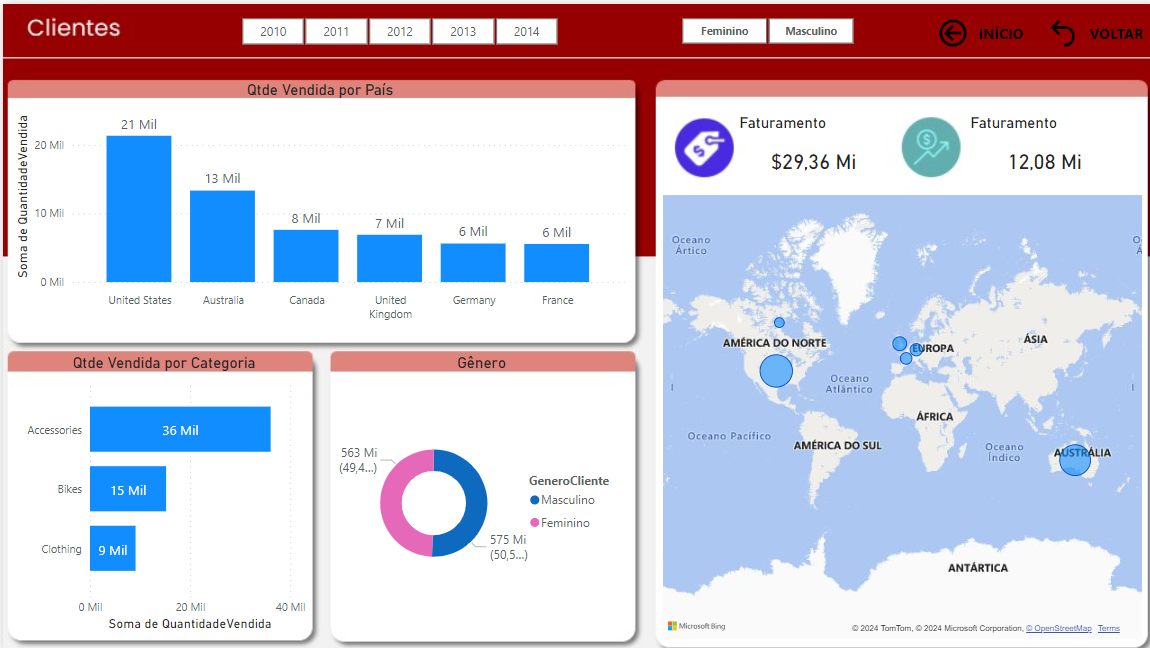

Layout of this report page (visuals, bound fields, positions):
{"tool":"powerbi","page":{"name":"Clientes","canvas":[1280,720],"ordinal":2},"visuals":[{"type":"actionButton","box":[1035.6,12.2,102.2,40],"z":0},{"type":"actionButton","box":[1157.8,12.2,113.3,40],"z":1000},{"type":"slicer","fields":{"Values":["vw_AnaliseVendas - vw_AnaliseVendas.DataPedido.Variation.Hierarquia de datas.Ano"]},"box":[240,8.9,400,43.3],"z":2000},{"type":"slicer","fields":{"Values":["vw_AnaliseVendas - vw_AnaliseVendas.GeneroCliente"]},"box":[728.9,8.9,240,42.2],"z":3000},{"type":"card","title":"Faturamento","fields":{"Values":["Sum(vw_AnaliseVendas - vw_AnaliseVendas.ValorVenda)"]},"box":[813.3,122.2,174.4,85.6],"z":4000},{"type":"card","title":"Faturamento","fields":{"Values":["Sum(vw_AnaliseVendas - vw_AnaliseVendas.LucroVenda)"]},"box":[1070,122.2,174.4,85.6],"z":5000},{"type":"donutChart","title":"Gênero","fields":{"Category":["vw_AnaliseVendas - vw_AnaliseVendas.GeneroCliente"],"Y":["Sum(vw_AnaliseVendas - vw_AnaliseVendas.IDCliente)"]},"box":[367.8,388.9,327.8,312.2],"z":6000},{"type":"map","fields":{"Category":["vw_AnaliseVendas - vw_AnaliseVendas.PaísCliente"],"Size":["Sum(vw_AnaliseVendas - vw_AnaliseVendas.LucroVenda)"]},"box":[728.9,207.8,542.2,503.3],"z":7000},{"type":"columnChart","title":"Qtde Vendida por País","fields":{"Category":["vw_AnaliseVendas - vw_AnaliseVendas.PaísCliente"],"Y":["Sum(vw_AnaliseVendas - vw_AnaliseVendas.QuantidadeVendida)"]},"box":[8.9,85.6,686.7,274.4],"z":8000},{"type":"barChart","title":"Qtde Vendida por Categoria","fields":{"Category":["vw_AnaliseVendas - vw_AnaliseVendas.CategoriaPedido"],"Y":["Sum(vw_AnaliseVendas - vw_AnaliseVendas.QuantidadeVendida)"]},"box":[16.7,388.9,324.4,312.2],"z":9000}]}

Visuals, with their boxes in screenshot pixels (x1, y1, x2, y2), scaled from the page's 1280x720 canvas onto the 1150x648 screenshot:
actionButton: select_region(930, 11, 1022, 47)
actionButton: select_region(1040, 11, 1142, 47)
slicer - vw_AnaliseVendas - vw_AnaliseVendas.DataPedido.Variation.Hierarquia de datas.Ano: select_region(216, 8, 575, 47)
slicer - vw_AnaliseVendas - vw_AnaliseVendas.GeneroCliente: select_region(655, 8, 870, 46)
"Faturamento" card: select_region(731, 110, 887, 187)
"Faturamento" card: select_region(961, 110, 1118, 187)
"Gênero" donutChart: select_region(330, 350, 625, 631)
map - vw_AnaliseVendas - vw_AnaliseVendas.PaísCliente x Sum(vw_AnaliseVendas - vw_AnaliseVendas.LucroVenda): select_region(655, 187, 1142, 640)
"Qtde Vendida por País" columnChart: select_region(8, 77, 625, 324)
"Qtde Vendida por Categoria" barChart: select_region(15, 350, 306, 631)
